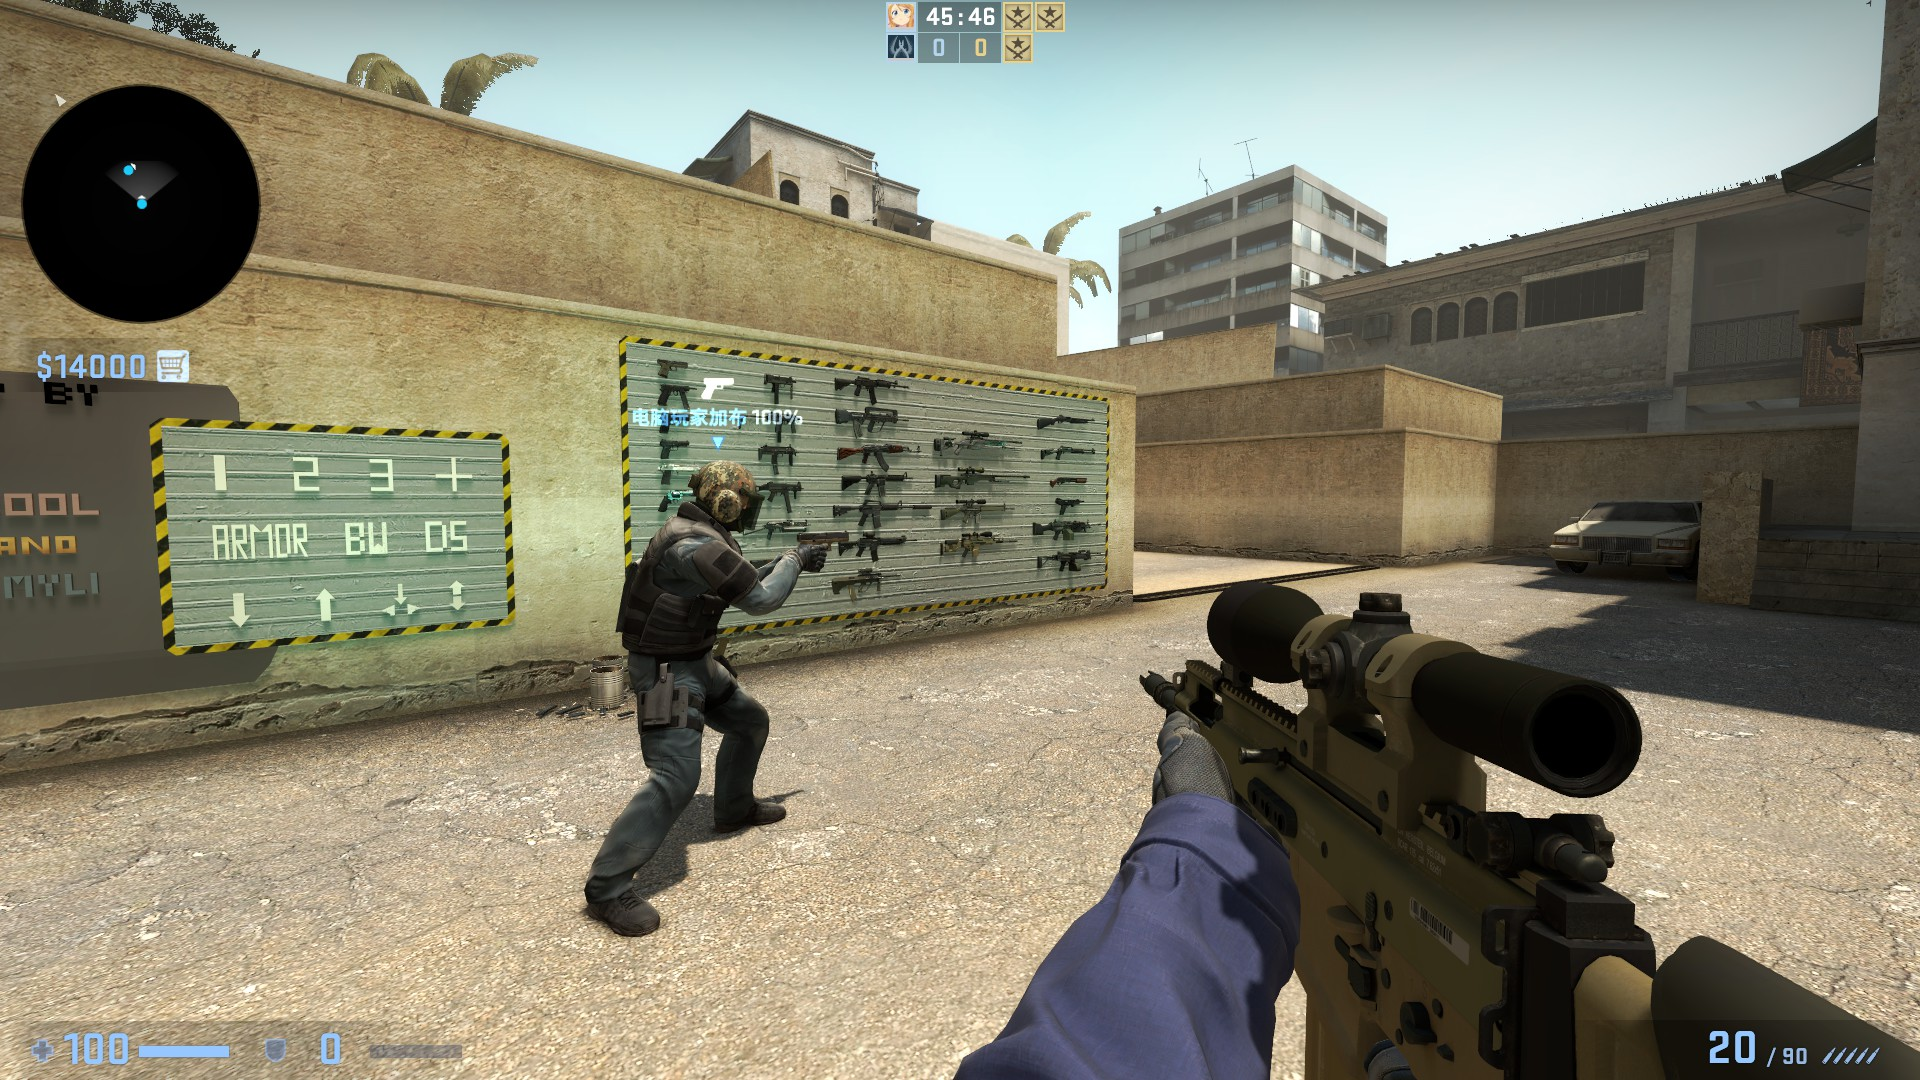head: (692, 458, 764, 527)
